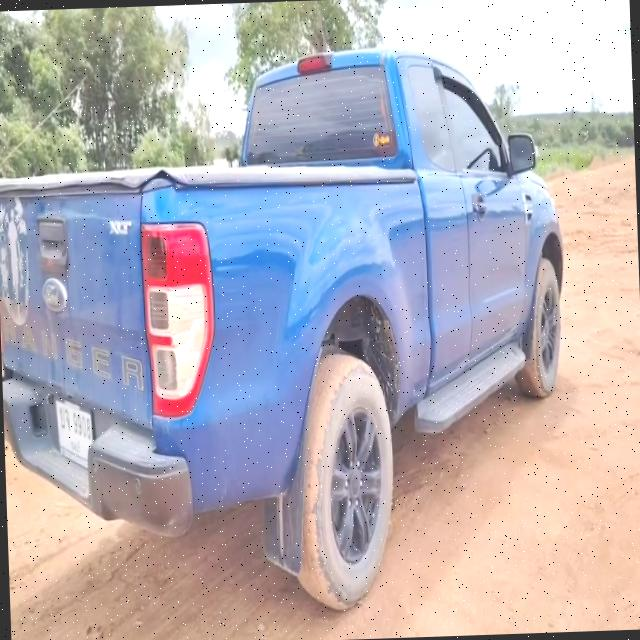Digit: (72, 412, 90, 441)
Licenseplate: (53, 397, 96, 474)
Provincename: (68, 435, 81, 456)
Thaichar: (58, 405, 69, 430)
